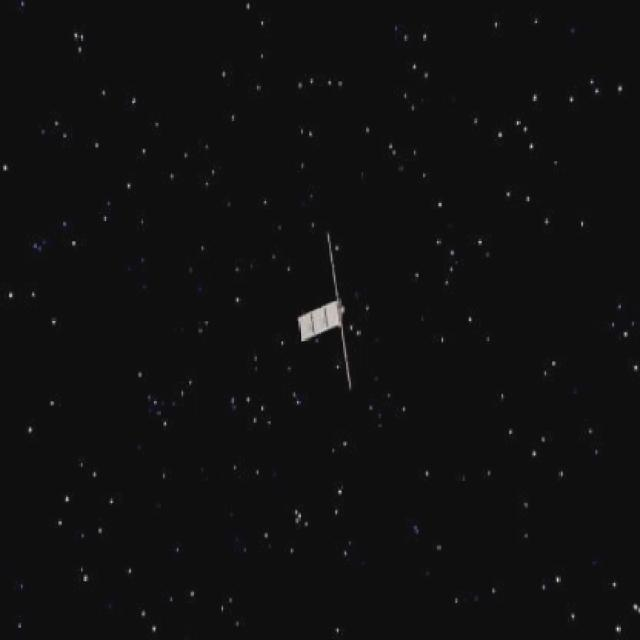satellite: (287, 231, 375, 404)
